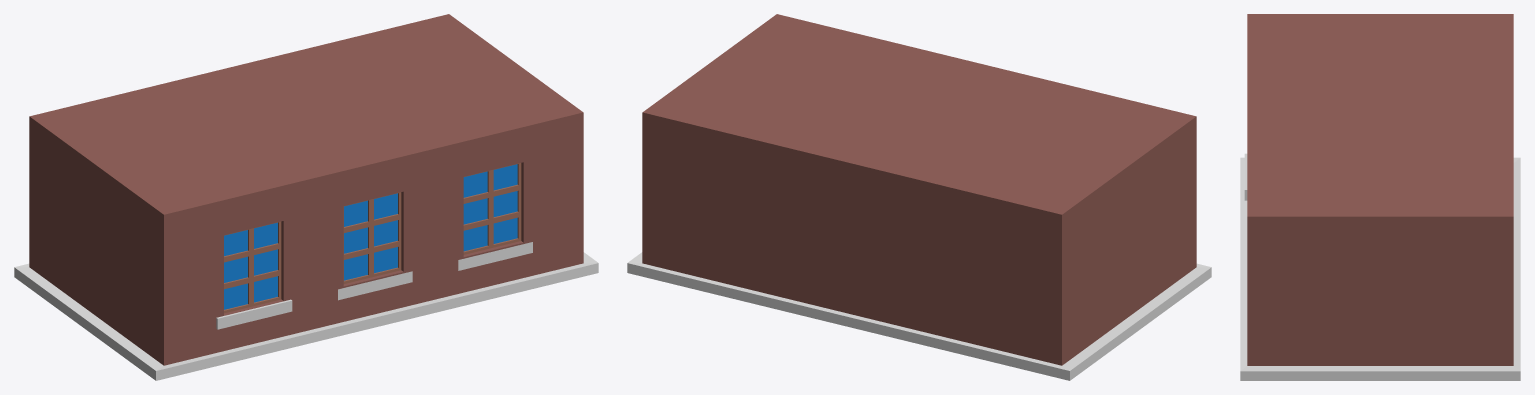
Rendered from brown.fbx.
3 renders of one model, left to right at view 1: azimuth 30°, elevation 25°; view 2: azimuth 150°, elevation 25°; view 3: azimuth 270°, elevation 25°, orthographic.
Parts seen in each view (by area): view 1: Cube.001; view 2: Cube.001; view 3: Cube.001.
Boxes of the visible parts, x1=… form: Cube.001: x1=14, y1=14, x2=598, y2=380; Cube.001: x1=627, y1=14, x2=1211, y2=380; Cube.001: x1=1240, y1=14, x2=1520, y2=380.
Size of the model in its own units: 625 by 217 by 347.
